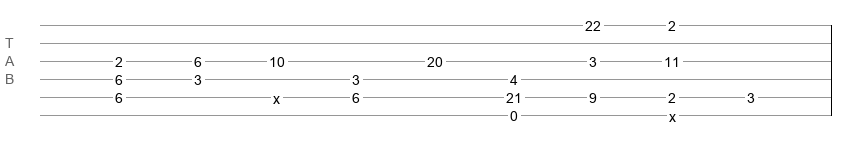0: (510, 108, 518, 118)
10: (269, 54, 285, 64)
11: (664, 54, 680, 64)
2: (115, 54, 123, 64), (668, 18, 676, 28), (668, 90, 676, 100)
20: (427, 54, 443, 64)
21: (506, 90, 522, 100)
22: (585, 18, 601, 28)
3: (194, 72, 202, 82), (352, 72, 360, 82), (589, 54, 597, 64), (747, 90, 755, 100)
4: (510, 72, 518, 82)
6: (115, 72, 123, 82), (115, 90, 123, 100), (194, 54, 202, 64), (352, 90, 360, 100)
9: (589, 90, 597, 100)
x: (273, 91, 280, 99), (669, 109, 676, 117)
